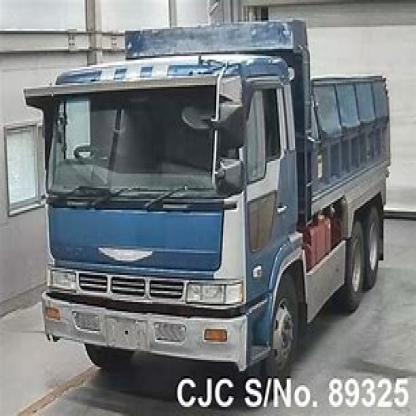dump_truck: (28, 11, 393, 401)
